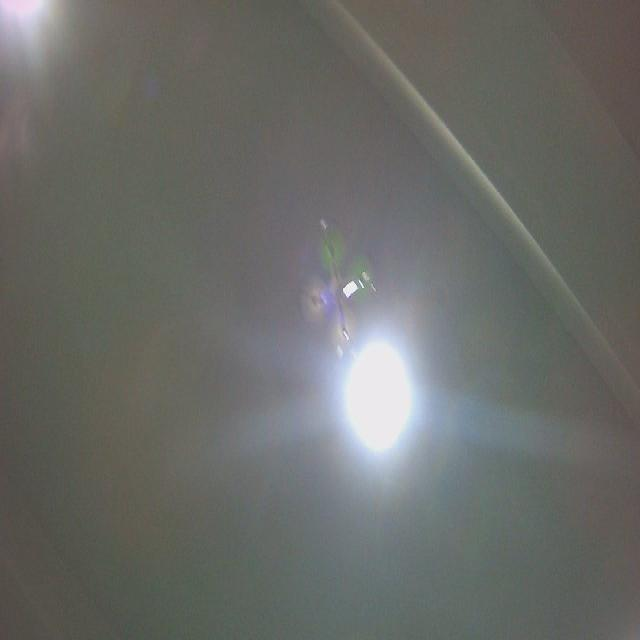drone: (295, 214, 381, 366)
